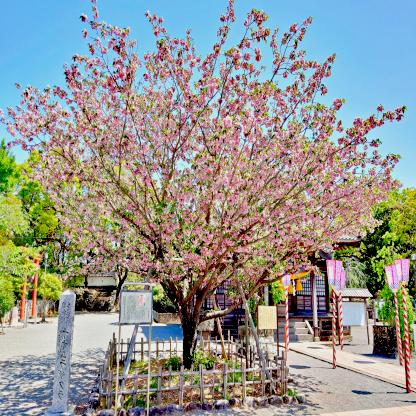YaeSakura: (0, 1, 405, 290)
